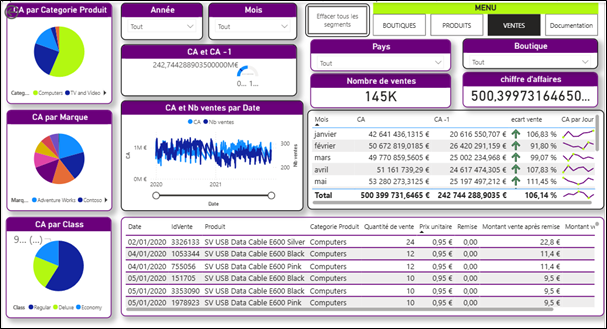

The page's visual inventory and layout, read from the dashboard file:
{"tool":"powerbi","page":{"name":"VENTES","canvas":[1280,720],"ordinal":2},"visuals":[{"type":"pieChart","fields":{"Category":["Categorie Produits.Categorie Produit"],"Y":["Sales.CA"]},"box":[10,0,225,215],"z":0},{"type":"pieChart","fields":{"Y":["Sales.CA"],"Category":["Produits.Marque"]},"box":[10,227.5,225,215],"z":1000},{"type":"pieChart","fields":{"Y":["Sales.CA"],"Category":["Produits.Class"]},"box":[7.5,456.2,225,215],"z":2000},{"type":"slicer","title":"Année","fields":{"Values":["DateTable.Année"]},"box":[252.2,0,174.4,78.9],"z":3000},{"type":"slicer","title":"Mois","fields":{"Values":["DateTable.Mois"]},"box":[437.8,0,188.9,78.9],"z":4000},{"type":"tableEx","fields":{"Values":["DateTable.Date","Sales.IdVente","Produits.Produit","Categorie Produits.Categorie Produit","Sales.Quantité de vente","Produits.Prix unitaire","Sales.Remise","Sales.Montant vente après remise","Sales.Montant vente"]},"box":[252.2,455.6,1027.8,211.1],"z":5000},{"type":"actionButton","box":[0,0,100,40],"z":6000},{"type":"lineChart","fields":{"Category":["DateTable.Date"],"Y":["Sales.CA"],"Y2":["Sales.Nb ventes"]},"box":[252.2,207.8,387.8,235.6],"z":7000},{"type":"gauge","fields":{"Y":["Sales.CA"],"TargetValue":["Sales.CA -1"]},"box":[252.2,87.8,374.4,110],"z":8000},{"type":"tableEx","fields":{"Values":["DateTable.Mois","Sales.CA","Sales.CA -1","Sales.ecart vente","SparklineData(Sales.CA_[DateTable.Jour])"]},"box":[648.9,227.8,631.1,212.2],"z":9000},{"type":"card","title":"Nombre de ventes","fields":{"Values":["Sales.Nb ventes"]},"box":[655.6,150,298.9,73.3],"z":10000},{"type":"card","title":"chiffre d''affaires","fields":{"Values":["Sales.CA"]},"box":[980,146.7,287.8,75.6],"z":11000},{"type":"slicer","title":"Pays","fields":{"Values":["Geographie.Pays"]},"box":[655.6,77.8,298.9,67.8],"z":12000},{"type":"slicer","title":"Boutique","fields":{"Values":["Boutiques.Boutique"]},"box":[980,76.7,287.8,64.4],"z":13000},{"type":"actionButton","box":[644.4,1.1,137.8,71.1],"z":14000},{"type":"pageNavigator","title":"MENU","box":[788.9,0,478.9,71.1],"z":15000}]}

Visuals, with their boxes in screenshot pixels (x1, y1, x2, y2):
pieChart - Categorie Produits.Categorie Produit x Sales.CA: box=[6, 0, 111, 100]
pieChart - Sales.CA x Produits.Marque: box=[6, 106, 111, 207]
pieChart - Sales.CA x Produits.Class: box=[5, 213, 110, 313]
"Année" slicer: box=[119, 0, 201, 37]
"Mois" slicer: box=[206, 0, 294, 37]
tableEx - DateTable.Date x Sales.IdVente: box=[119, 213, 599, 311]
actionButton: box=[2, 0, 48, 19]
lineChart - DateTable.Date x Sales.CA: box=[119, 97, 300, 207]
gauge - Sales.CA x Sales.CA -1: box=[119, 41, 294, 92]
tableEx - DateTable.Mois x Sales.CA: box=[305, 106, 599, 205]
"Nombre de ventes" card: box=[308, 70, 447, 104]
"chiffre d''affaires" card: box=[459, 68, 594, 104]
"Pays" slicer: box=[308, 36, 447, 68]
"Boutique" slicer: box=[459, 36, 594, 66]
actionButton: box=[302, 1, 367, 34]
"MENU" pageNavigator: box=[370, 0, 594, 33]
